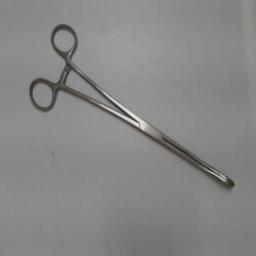Sponge Forceps: (24, 16, 238, 194)
